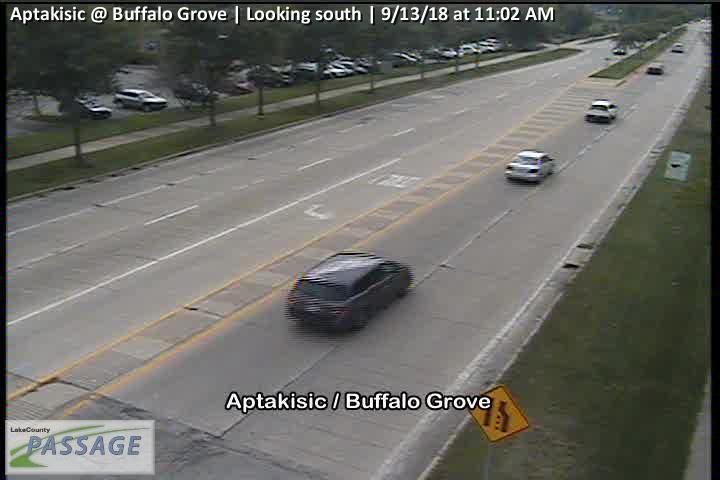Sedan: (286, 249, 410, 335), (505, 149, 555, 183), (57, 94, 114, 120), (112, 88, 168, 112), (584, 98, 619, 122)
